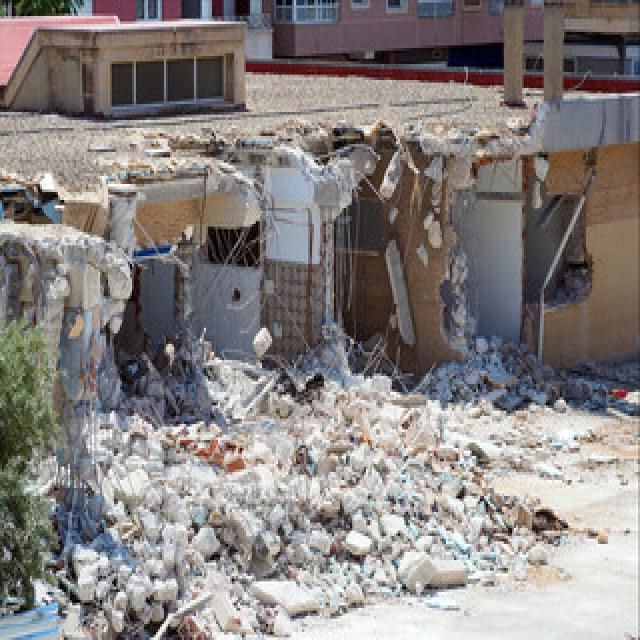Destroyed_building: (29, 0, 635, 637)
